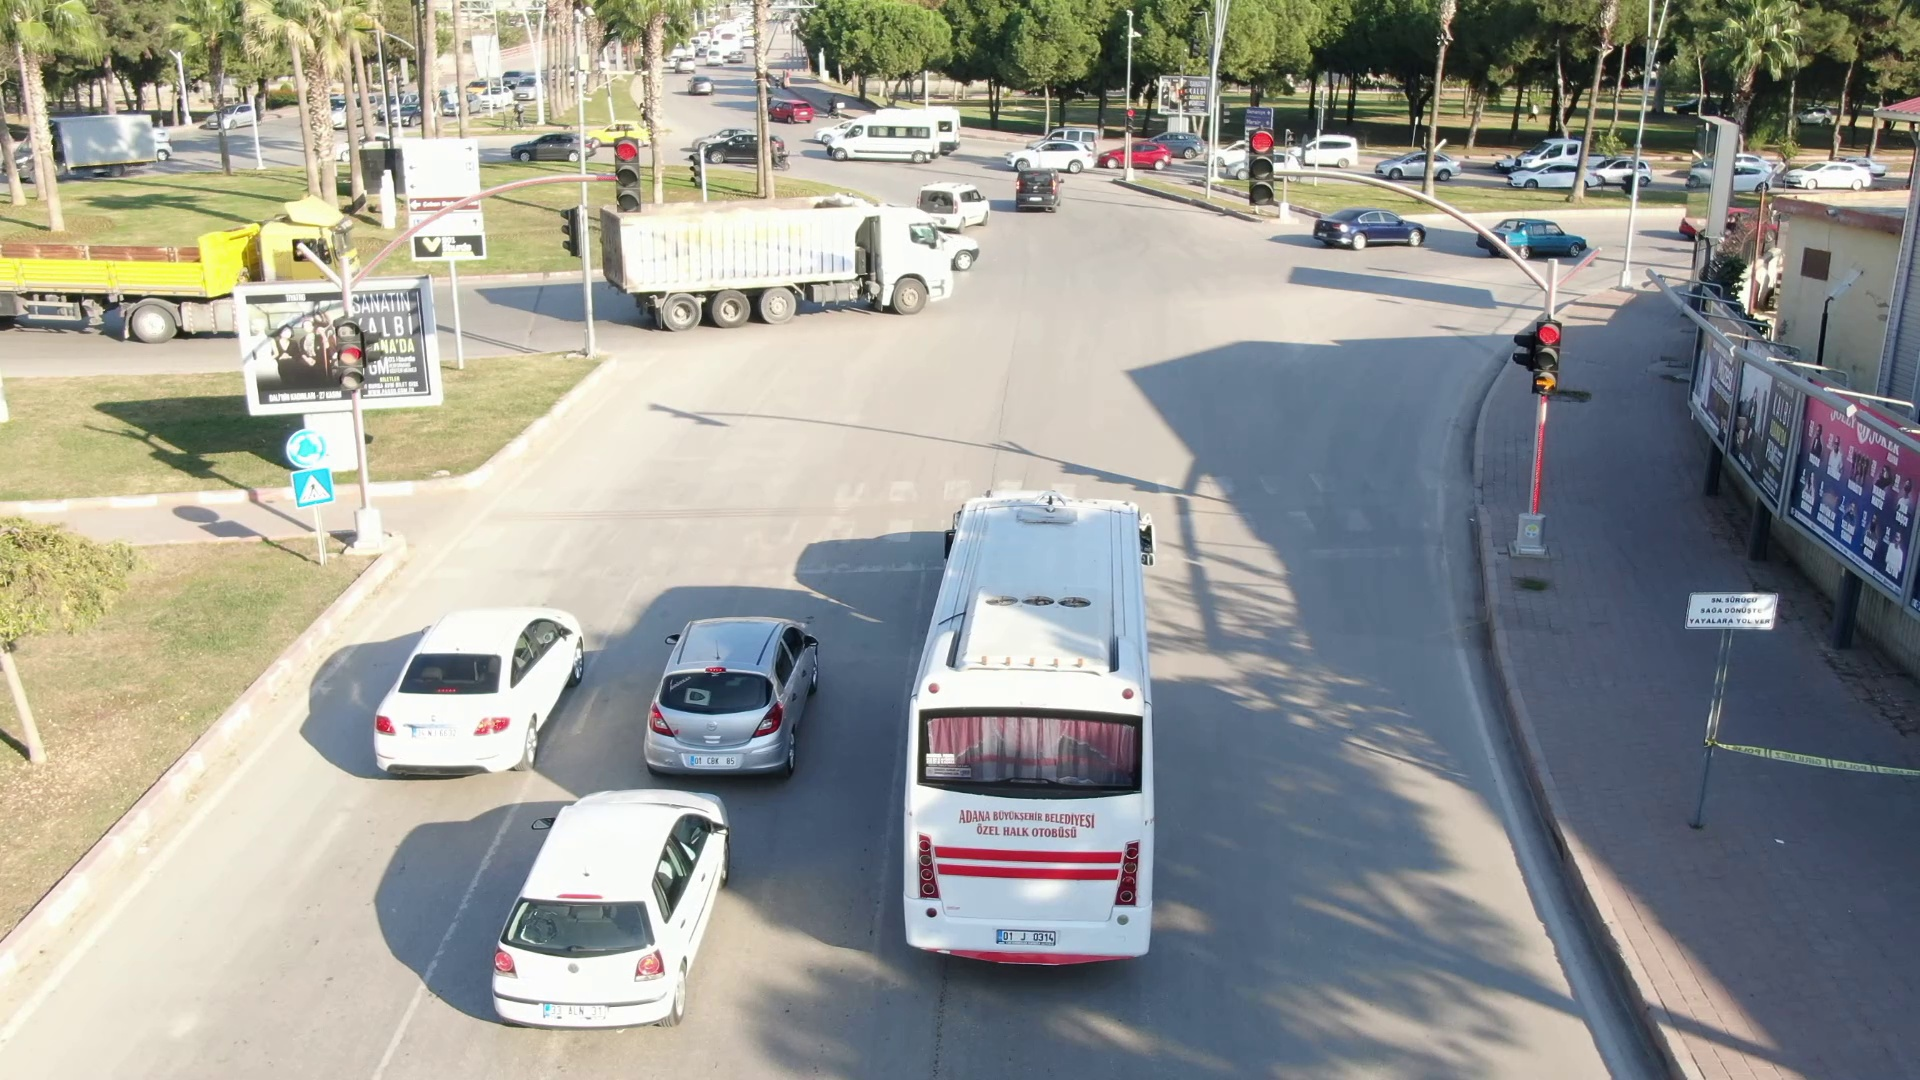car: (899, 473, 1200, 988), (459, 787, 741, 1034), (593, 196, 971, 327), (357, 593, 588, 781), (653, 615, 814, 778), (1298, 198, 1431, 257), (1474, 210, 1598, 262), (1006, 164, 1065, 214)
